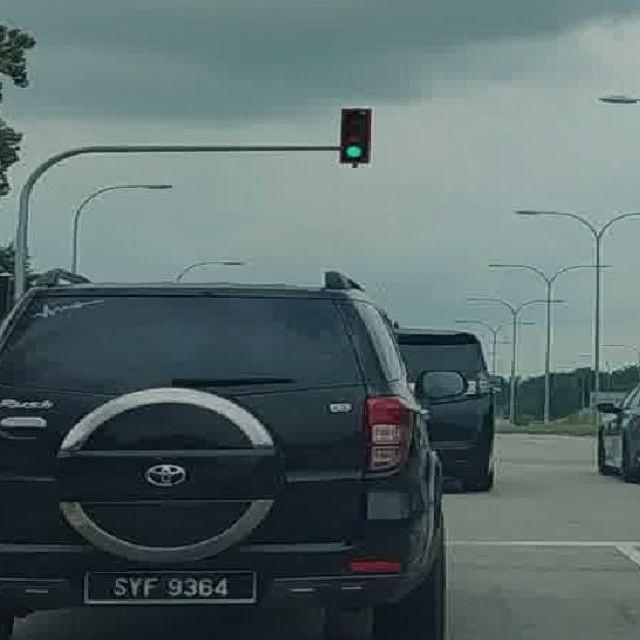Green: (341, 109, 366, 161)
